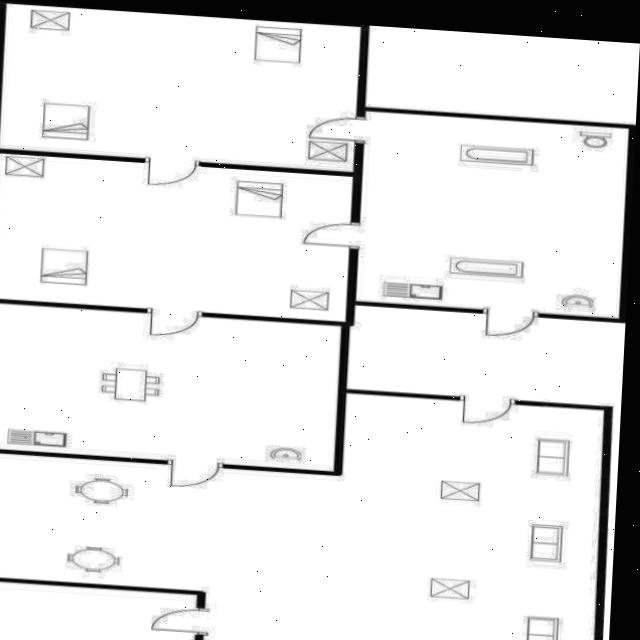room: (0, 392, 605, 640), (0, 3, 363, 171), (0, 152, 355, 321), (353, 110, 632, 318), (0, 302, 343, 471)
